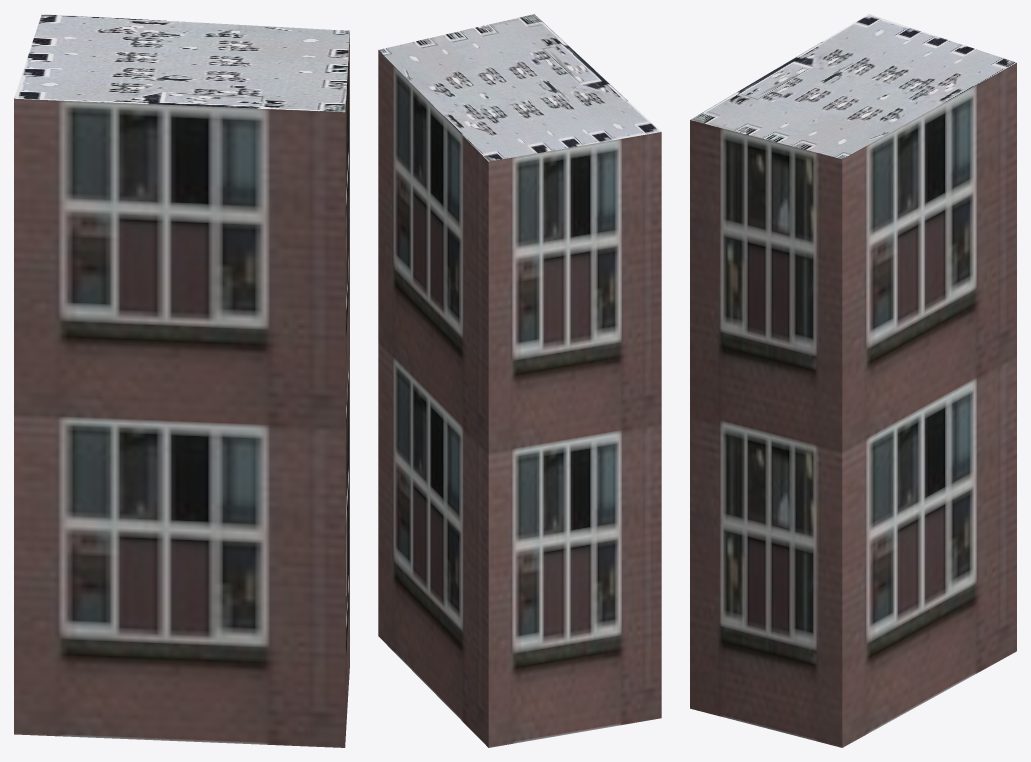
The model's file is ResTex__5042.fbx.
3 renders of one model, left to right at view 1: azimuth 30°, elevation 25°; view 2: azimuth 150°, elevation 25°; view 3: azimuth 270°, elevation 25°, orthographic. The views are drawn at different scales.
Parts seen in each view (by area): view 1: CityEngineMaterial_12_m, CityEngineMaterial_4_m; view 2: CityEngineMaterial_12_m, CityEngineMaterial_4_m; view 3: CityEngineMaterial_12_m, CityEngineMaterial_4_m.
Boxes of the visible parts, left/top/right/bottom form: CityEngineMaterial_12_m: left=14, top=33, right=349, bottom=747; CityEngineMaterial_4_m: left=14, top=14, right=349, bottom=112; CityEngineMaterial_12_m: left=378, top=50, right=661, bottom=747; CityEngineMaterial_4_m: left=379, top=14, right=660, bottom=161; CityEngineMaterial_12_m: left=690, top=63, right=1016, bottom=747; CityEngineMaterial_4_m: left=690, top=14, right=1016, bottom=159.
Size of the model in its own units: 3.18 by 6 by 3.02.
Materials: 2 (2 with a texture image).
